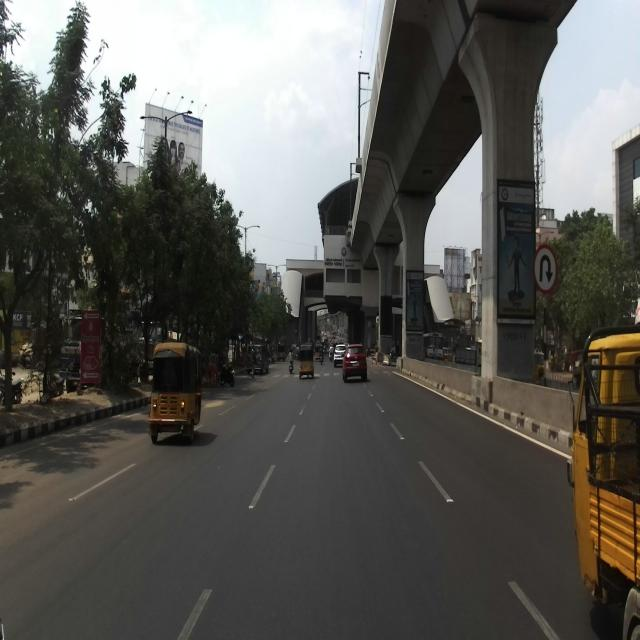autorickshaw: (565, 323, 640, 639), (148, 342, 204, 444)
